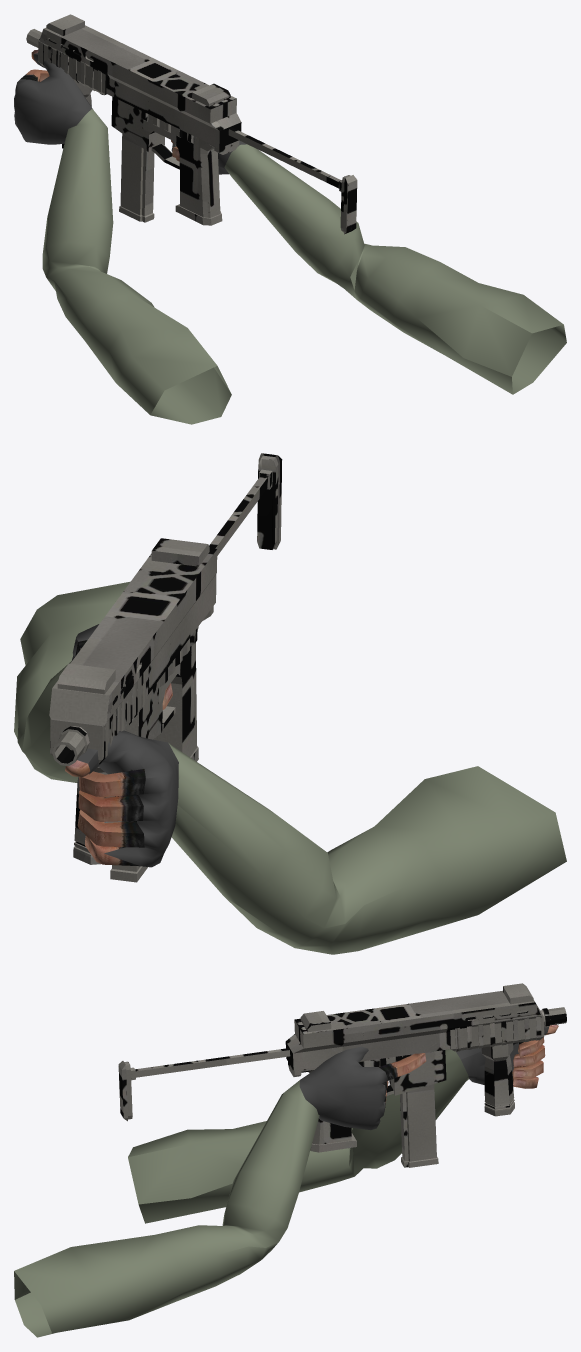
File: gun_smg.glb
3 views of the same model, one above another, from view 1: azimuth 30°, elevation 25°; view 2: azimuth 150°, elevation 25°; view 3: azimuth 270°, elevation 25° (orthographic). The views are drawn at different scales.
Parts seen in each view (by area): view 1: body_sleeve, body_QUAT, body_glove, mag_QUAT, body_QUATP; view 2: body_sleeve, body_QUAT, body_glove, body_ARMS, body_QUATP; view 3: body_sleeve, body_QUAT, body_glove, mag_QUAT, body_ARMS, body_QUATP.
Part boxes in pixels (x1,y1,x2,y2): body_sleeve: [42, 108, 566, 424]; body_QUAT: [26, 14, 357, 234]; body_glove: [14, 52, 246, 174]; mag_QUAT: [120, 134, 154, 218]; body_QUATP: [38, 41, 193, 151]; body_sleeve: [14, 581, 566, 954]; body_QUAT: [49, 453, 282, 864]; body_glove: [71, 624, 178, 867]; body_ARMS: [65, 640, 172, 866]; body_QUATP: [50, 628, 197, 763]; body_sleeve: [14, 1049, 468, 1337]; body_QUAT: [118, 983, 566, 1152]; body_glove: [299, 1027, 548, 1130]; mag_QUAT: [400, 1084, 436, 1161]; body_ARMS: [379, 1024, 558, 1107]; body_QUATP: [363, 1004, 544, 1066].
Size of the model in its own units: 62.9 by 40.28 by 80.83.
5 materials, 3 textured.
